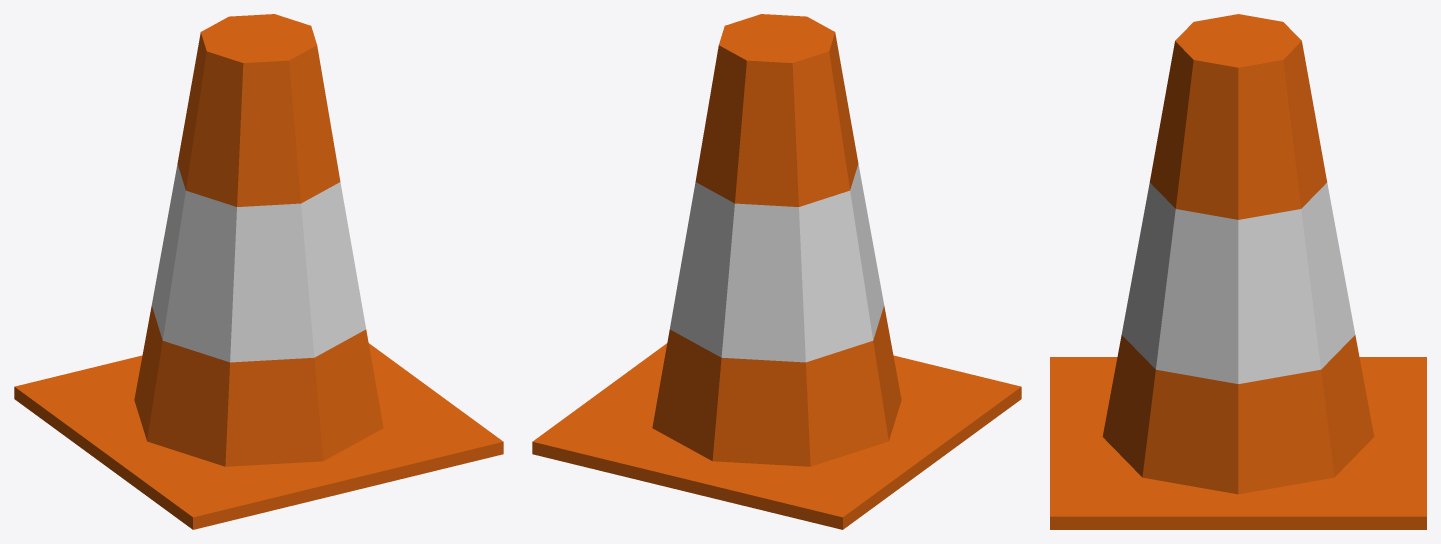
3 views of the same model, side by side, from view 1: azimuth 30°, elevation 25°; view 2: azimuth 150°, elevation 25°; view 3: azimuth 270°, elevation 25° (orthographic). The views are drawn at different scales.
Visible parts, largest first — view 1: Cube.000; view 2: Cube.000; view 3: Cube.000.
Part boxes in pixels (x1,y1,x2,y2): Cube.000: (14,14,503,529); Cube.000: (532,14,1021,529); Cube.000: (1050,14,1426,529).
Bounding box in the file's own units: 24.47 × 29.24 × 24.4.
